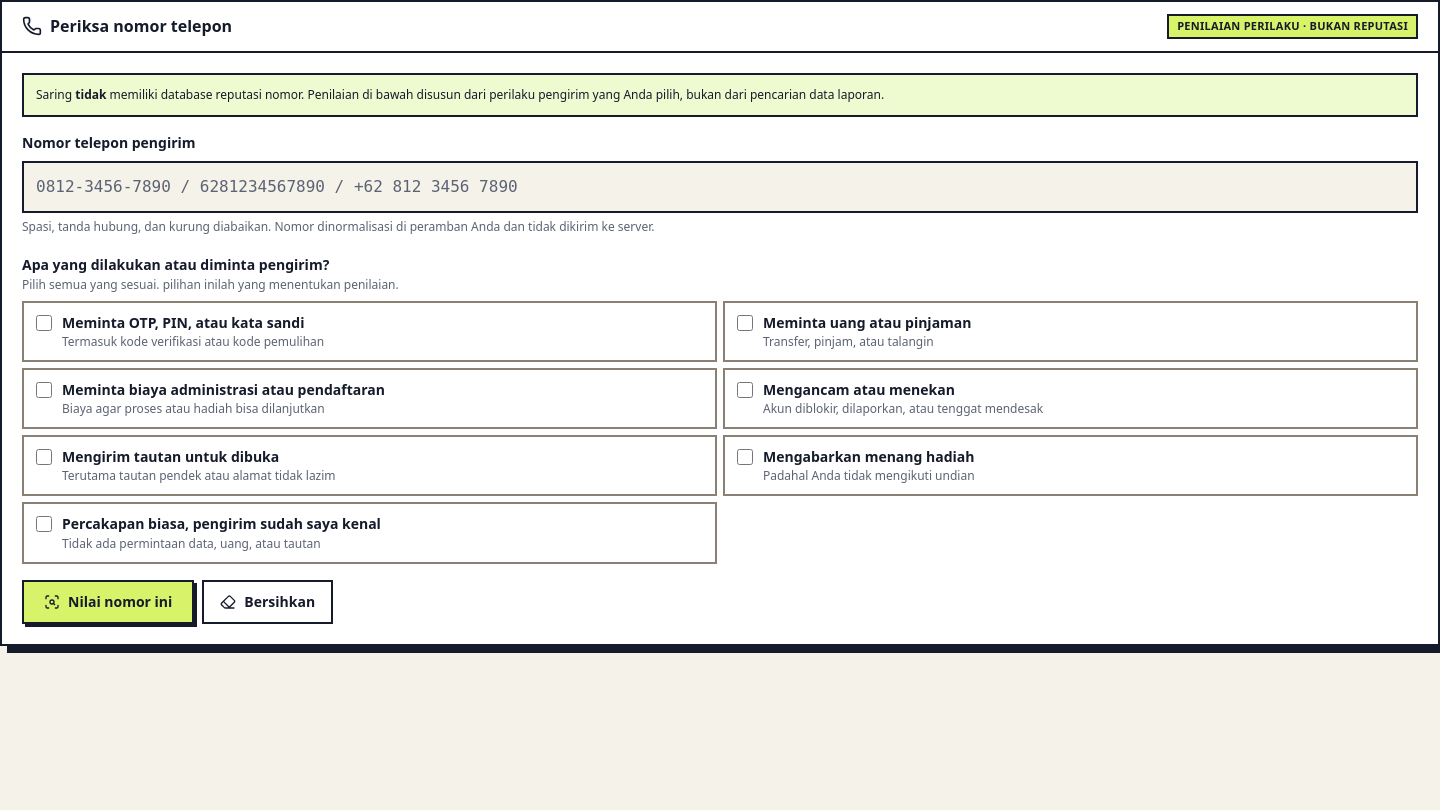
PhoneCheck › validates the number before assessing
This screenshot has width=1440, height=810.
Type "12345" into the field labelled "Nomor telepon pengirim" at coordinates (720, 186), box x1=22 y1=160 x2=1418 y2=212
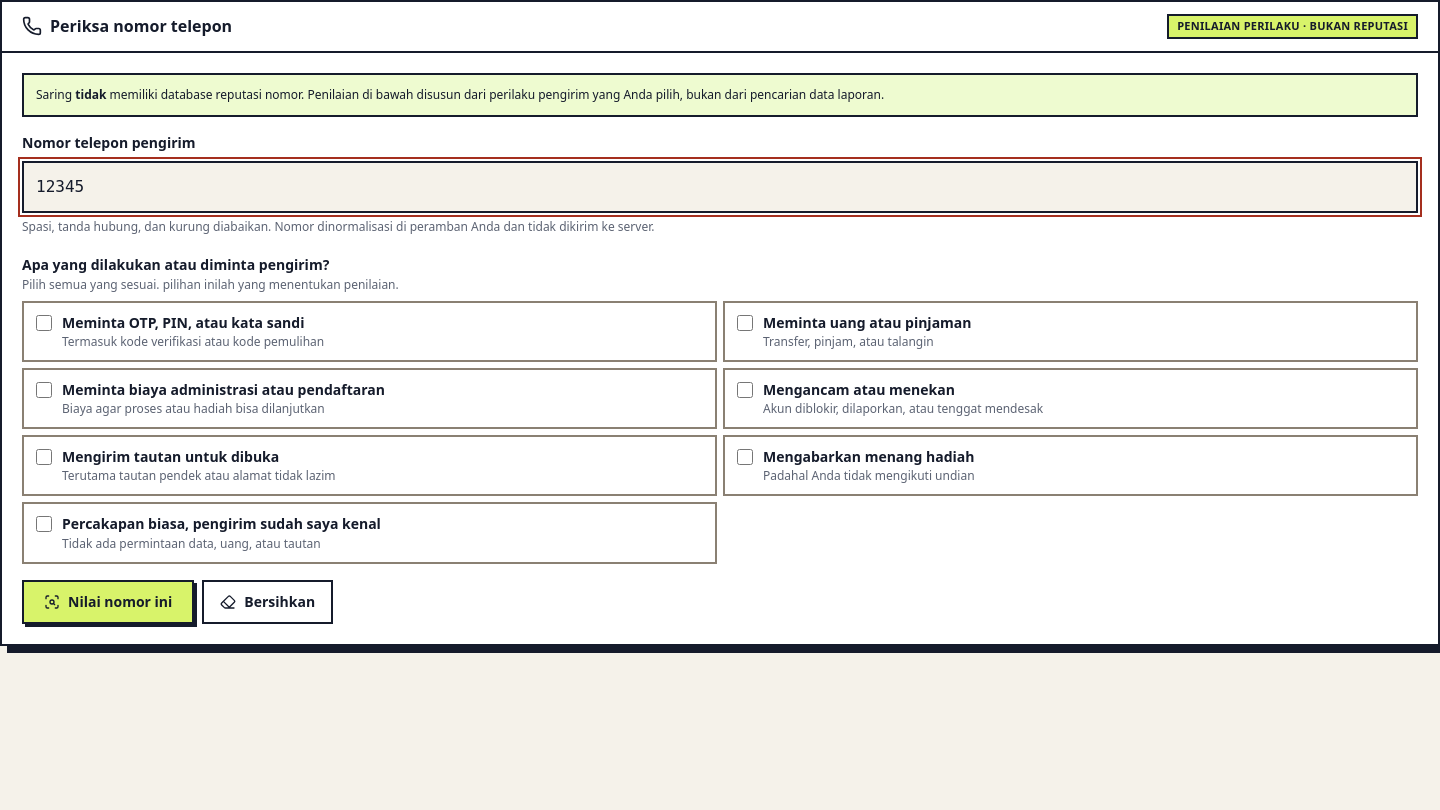
Click the button "Nilai nomor ini" at coordinates (108, 602), box x1=22 y1=580 x2=194 y2=624
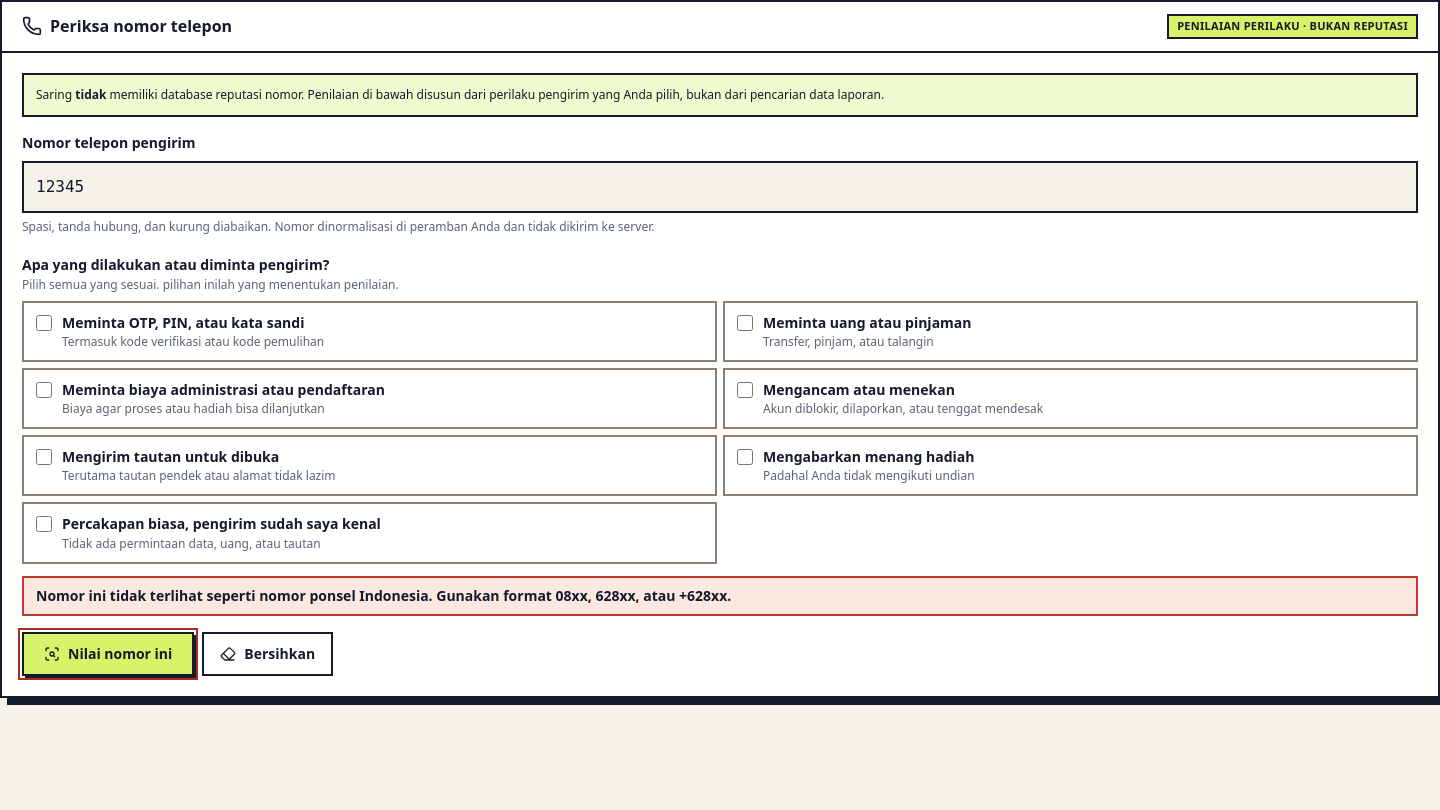
Result: the message is shown at x1=22 y1=576 x2=1418 y2=616
